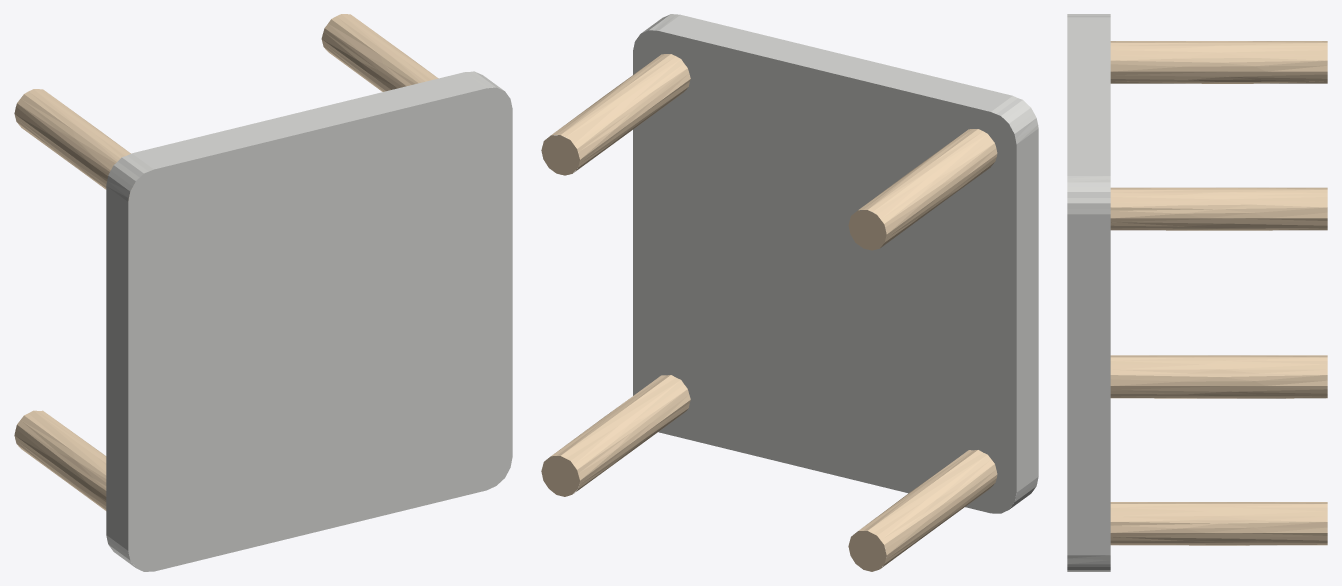
File: NewProject.gltf
3 views of the same model, side by side, from view 1: azimuth 30°, elevation 25°; view 2: azimuth 150°, elevation 25°; view 3: azimuth 270°, elevation 25° (orthographic). The views are drawn at different scales.
Parts seen in each view (by area): view 1: Extrusion <82 拉伸>, Extrusion <614 拉伸>; view 2: Extrusion <82 拉伸>, Extrusion <614 拉伸>; view 3: Extrusion <614 拉伸>, Extrusion <82 拉伸>.
Part boxes in pixels (left/top/right/bottom): Extrusion <82 拉伸>: left=106, top=71, right=512, bottom=571; Extrusion <614 拉伸>: left=14, top=14, right=438, bottom=510; Extrusion <82 拉伸>: left=633, top=14, right=1038, bottom=513; Extrusion <614 拉伸>: left=541, top=54, right=997, bottom=571; Extrusion <614 拉伸>: left=1110, top=41, right=1327, bottom=545; Extrusion <82 拉伸>: left=1067, top=14, right=1110, bottom=571.
Size of the model in its own units: 762 by 762 by 457.
